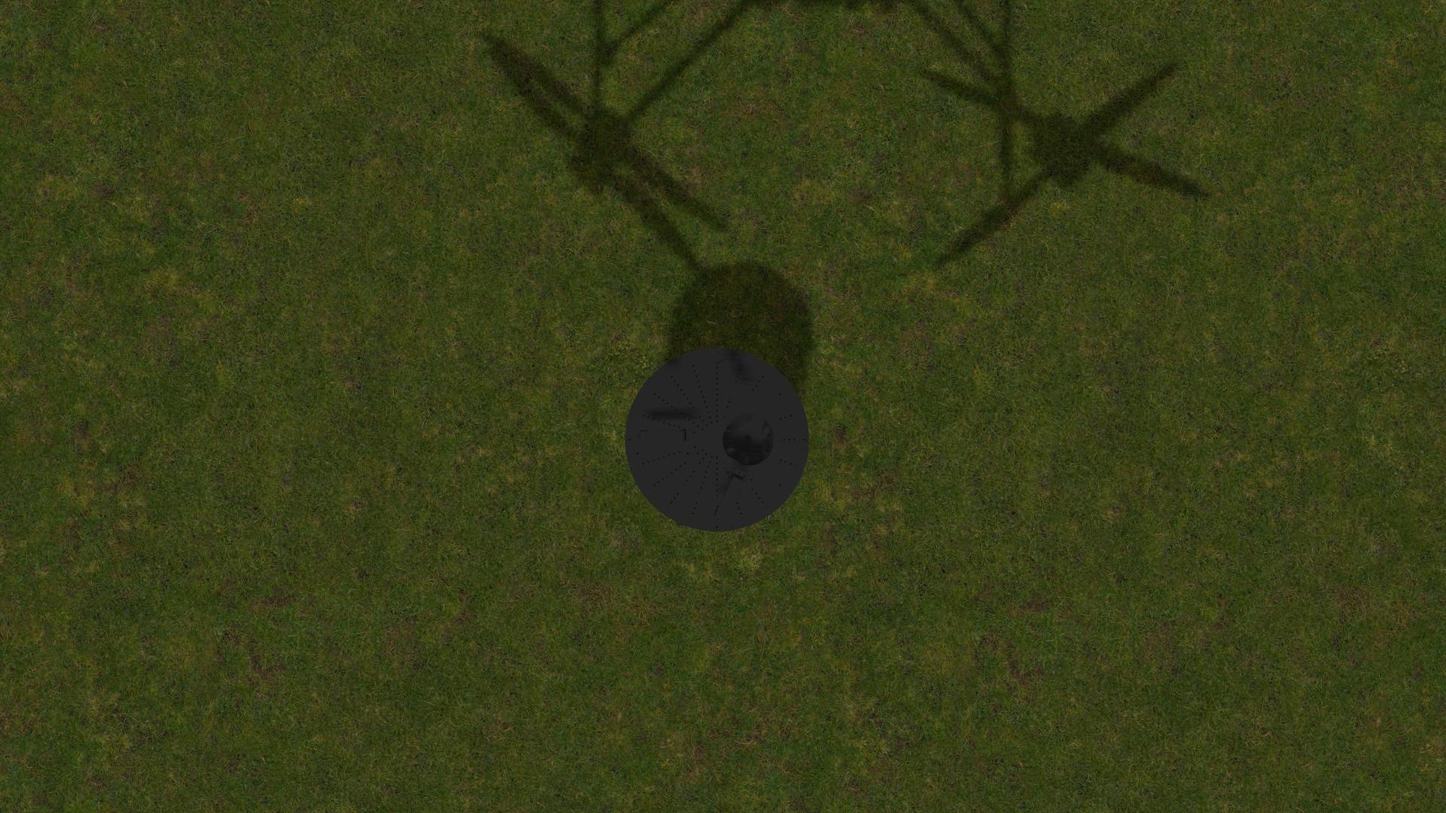alca: (712, 468, 745, 524), (714, 355, 746, 410), (634, 429, 692, 443)
armadilha: (625, 347, 809, 532)
